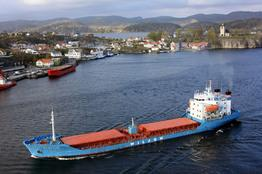Cargoship: (20, 79, 240, 161)
